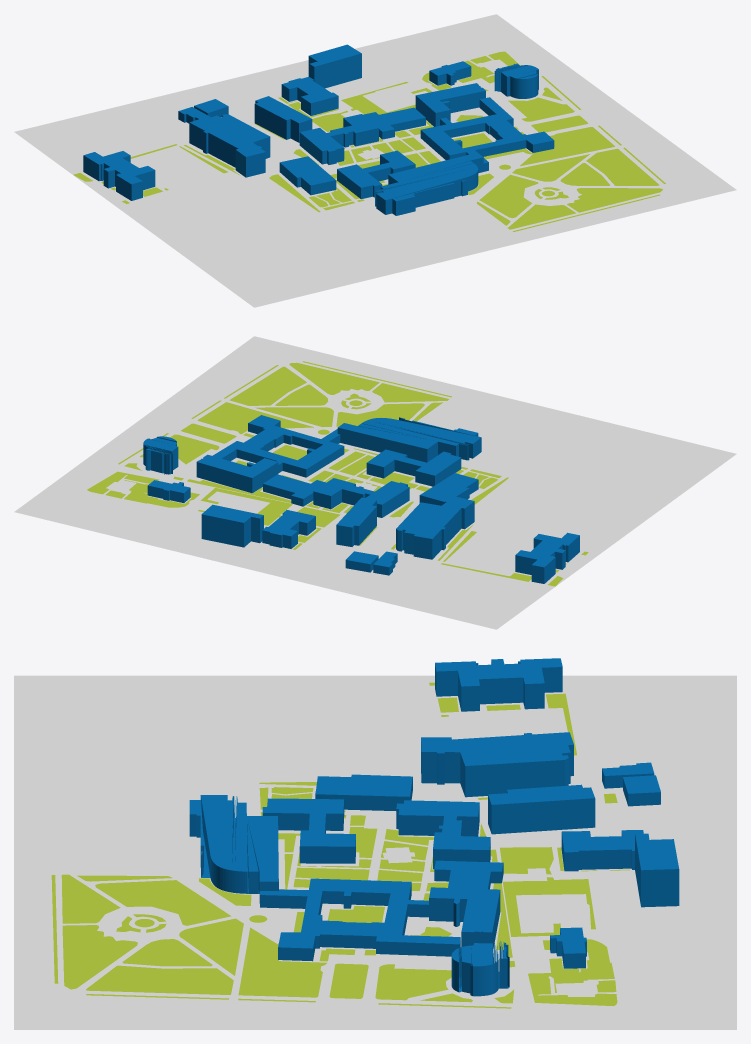
File: Buildings.fbx
3 renders of one model, top to bottom at view 1: azimuth 30°, elevation 25°; view 2: azimuth 150°, elevation 25°; view 3: azimuth 270°, elevation 25°, orthographic. The views are drawn at different scales.
Parts seen in each view (by area): view 1: Plane, Curve.009, Curve.018, Curve.013, Curve.001, Curve.008, Curve.011, Curve.017, Curve.004, Curve.067, Curve.012, Curve.019 (+14 smaller); view 2: Plane, Curve.009, Curve.018, Curve.013, Curve.008, Curve.001, Curve.011, Curve.017, Curve.004, Curve.019, Curve.012, Curve.067 (+15 smaller); view 3: Plane, Curve.018, Curve.013, Curve.009, Curve.008, Curve.012, Curve.001, Curve.011, Curve.067, Curve.019, Curve.004, Curve.025 (+21 smaller).
Part boxes in pixels (bbox=[...]): Plane: bbox=[14, 14, 736, 307]; Curve.009: bbox=[375, 152, 483, 215]; Curve.018: bbox=[420, 97, 554, 171]; Curve.013: bbox=[189, 114, 270, 177]; Curve.001: bbox=[299, 114, 378, 164]; Curve.008: bbox=[83, 151, 155, 200]; Curve.011: bbox=[337, 150, 415, 199]; Curve.017: bbox=[308, 44, 361, 88]; Curve.004: bbox=[415, 83, 485, 126]; Curve.067: bbox=[483, 127, 614, 166]; Curve.012: bbox=[254, 96, 312, 142]; Curve.019: bbox=[586, 148, 659, 185]; Plane: bbox=[14, 336, 736, 629]; Curve.009: bbox=[337, 417, 481, 462]; Curve.018: bbox=[212, 415, 344, 477]; Curve.013: bbox=[396, 496, 474, 559]; Curve.008: bbox=[515, 532, 579, 583]; Curve.001: bbox=[313, 478, 409, 517]; Curve.011: bbox=[366, 449, 461, 486]; Curve.017: bbox=[201, 504, 263, 547]; Curve.004: bbox=[196, 454, 278, 493]; Curve.019: bbox=[229, 366, 306, 405]; Curve.012: bbox=[336, 497, 376, 546]; Curve.067: bbox=[197, 402, 313, 434]; Plane: bbox=[14, 675, 736, 1029]; Curve.018: bbox=[260, 878, 460, 961]; Curve.013: bbox=[421, 732, 573, 797]; Curve.009: bbox=[189, 795, 278, 903]; Curve.008: bbox=[435, 658, 562, 711]; Curve.012: bbox=[488, 784, 595, 834]; Curve.001: bbox=[396, 800, 490, 869]; Curve.011: bbox=[262, 798, 355, 863]; Curve.067: bbox=[238, 912, 326, 997]; Curve.019: bbox=[86, 965, 233, 994]; Curve.004: bbox=[429, 887, 500, 948]; Curve.025: bbox=[95, 880, 231, 925].
Bounding box in the file's own units: 51579 × 2528 × 44485.
